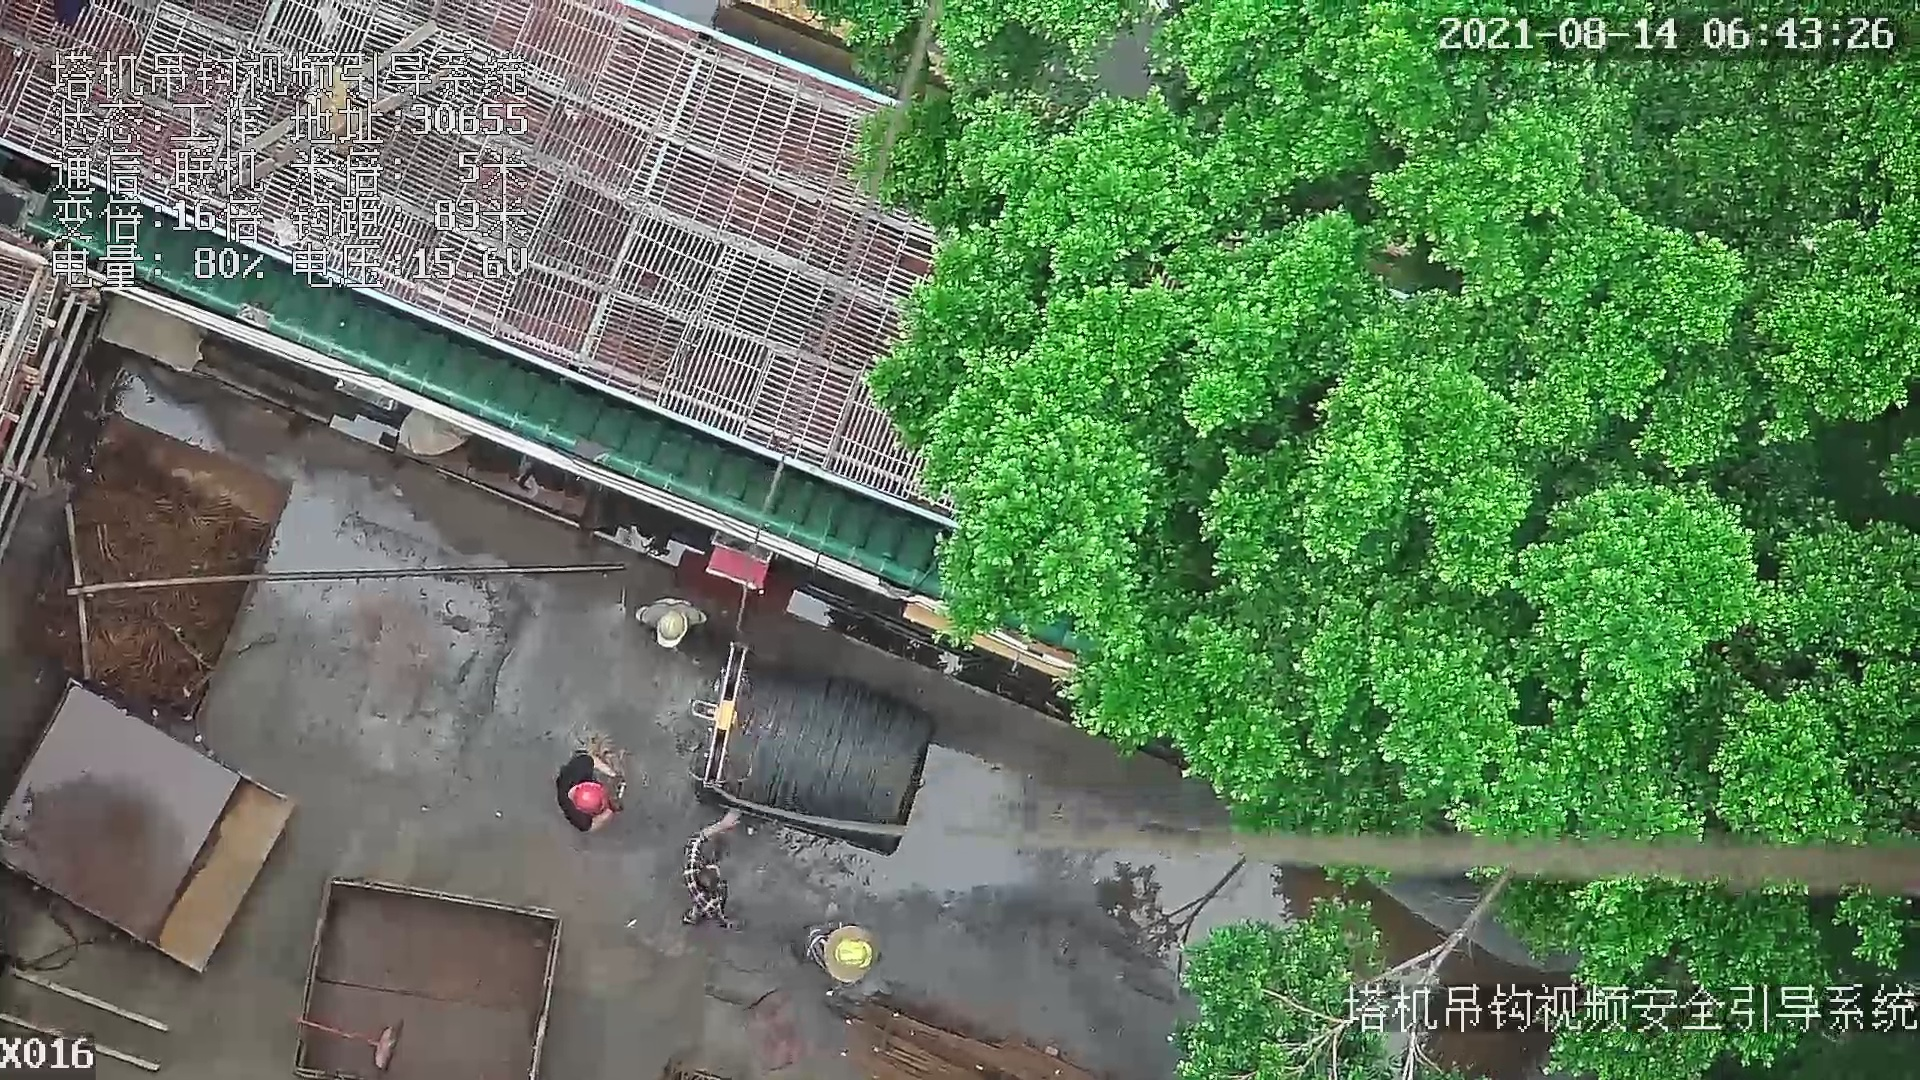helmet: (567, 775, 604, 817), (829, 941, 880, 972), (654, 609, 686, 650)
hook: (687, 637, 749, 790)
person: (678, 798, 752, 931), (553, 751, 629, 835), (803, 921, 881, 987), (629, 597, 704, 649)
